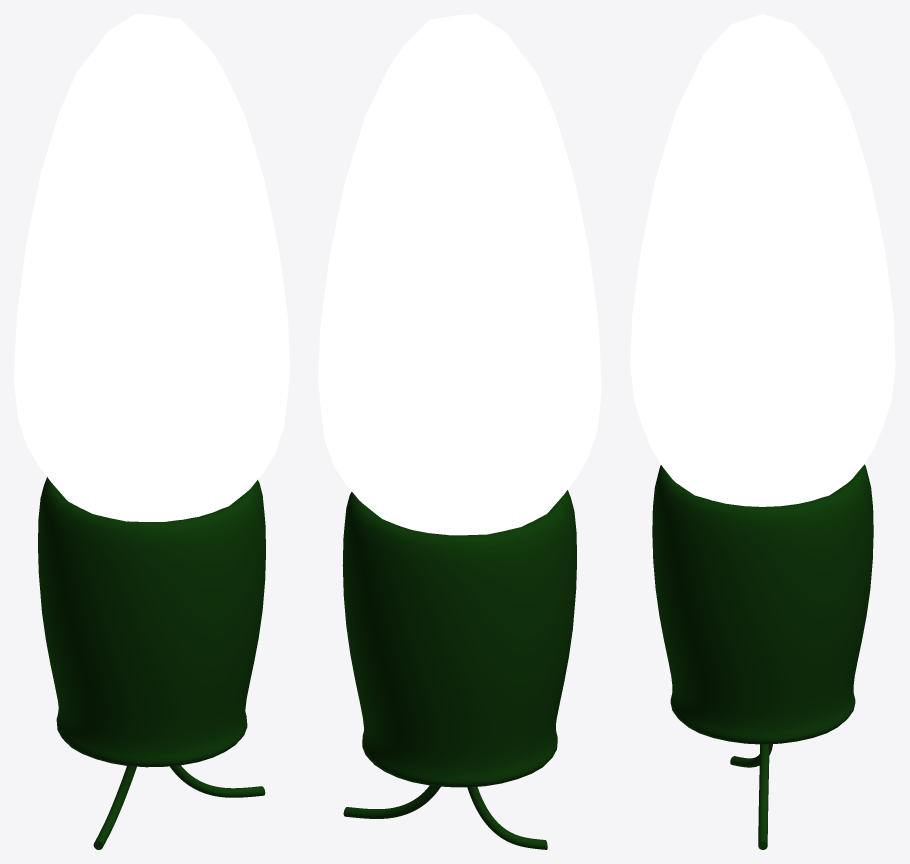
Rendered from christmas_bulb.glb.
3 renders of one model, left to right at view 1: azimuth 30°, elevation 25°; view 2: azimuth 150°, elevation 25°; view 3: azimuth 270°, elevation 25°, orthographic. The views are drawn at different scales.
Visible parts, largest first — view 1: bulb, base; view 2: bulb, base; view 3: bulb, base.
Part boxes in pixels (<box>): bulb: <box>14,14,289,521</box>; base: <box>38,477,265,849</box>; bulb: <box>318,14,601,535</box>; base: <box>342,490,576,849</box>; bulb: <box>630,14,895,506</box>; base: <box>652,464,873,849</box>.
Size of the model in its own units: 0.0519 by 0.1686 by 0.0519.
